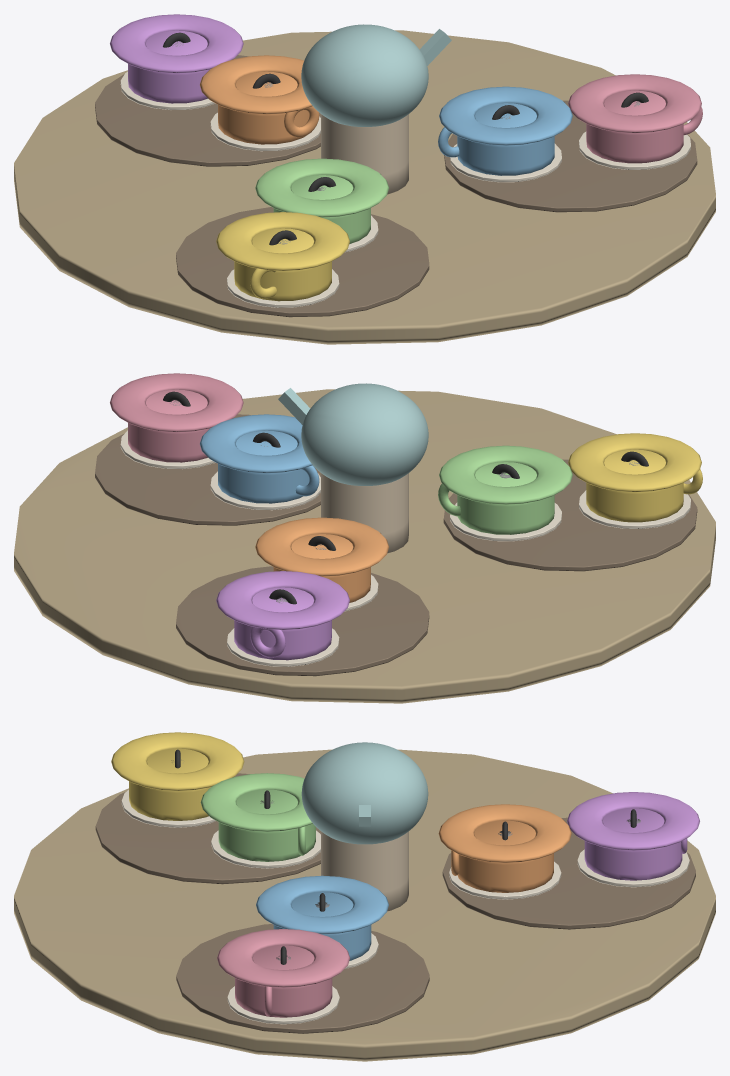
File: xicaras.glb
3 views of the same model, one above another, from view 1: azimuth 30°, elevation 25°; view 2: azimuth 150°, elevation 25°; view 3: azimuth 270°, elevation 25° (orthographic).
Visible parts, largest first — view 1: obj_445; view 2: obj_445; view 3: obj_445.
Part boxes in pixels (left/top/right/bottom): obj_445: left=14, top=14, right=715, bottom=344; obj_445: left=14, top=373, right=715, bottom=703; obj_445: left=14, top=732, right=715, bottom=1061.
Bounding box in the file's own units: 14.4 × 3.7 × 14.4.
Materials: 1 (1 with a texture image).
